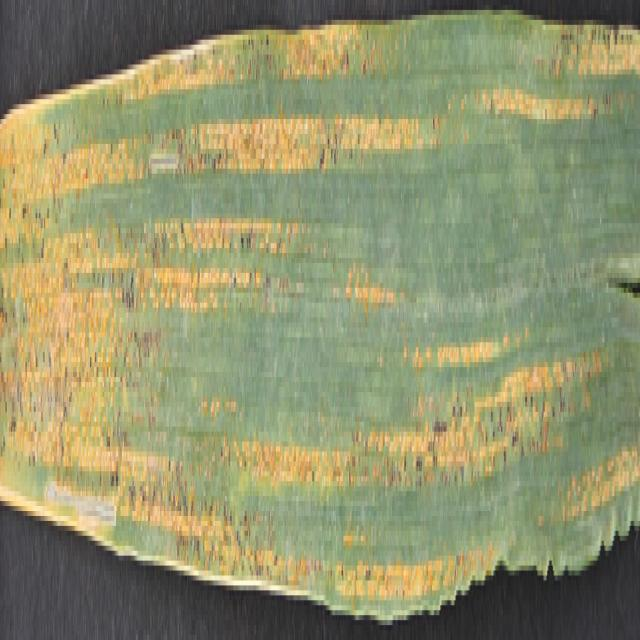leaf rust: (0, 5, 640, 615)
